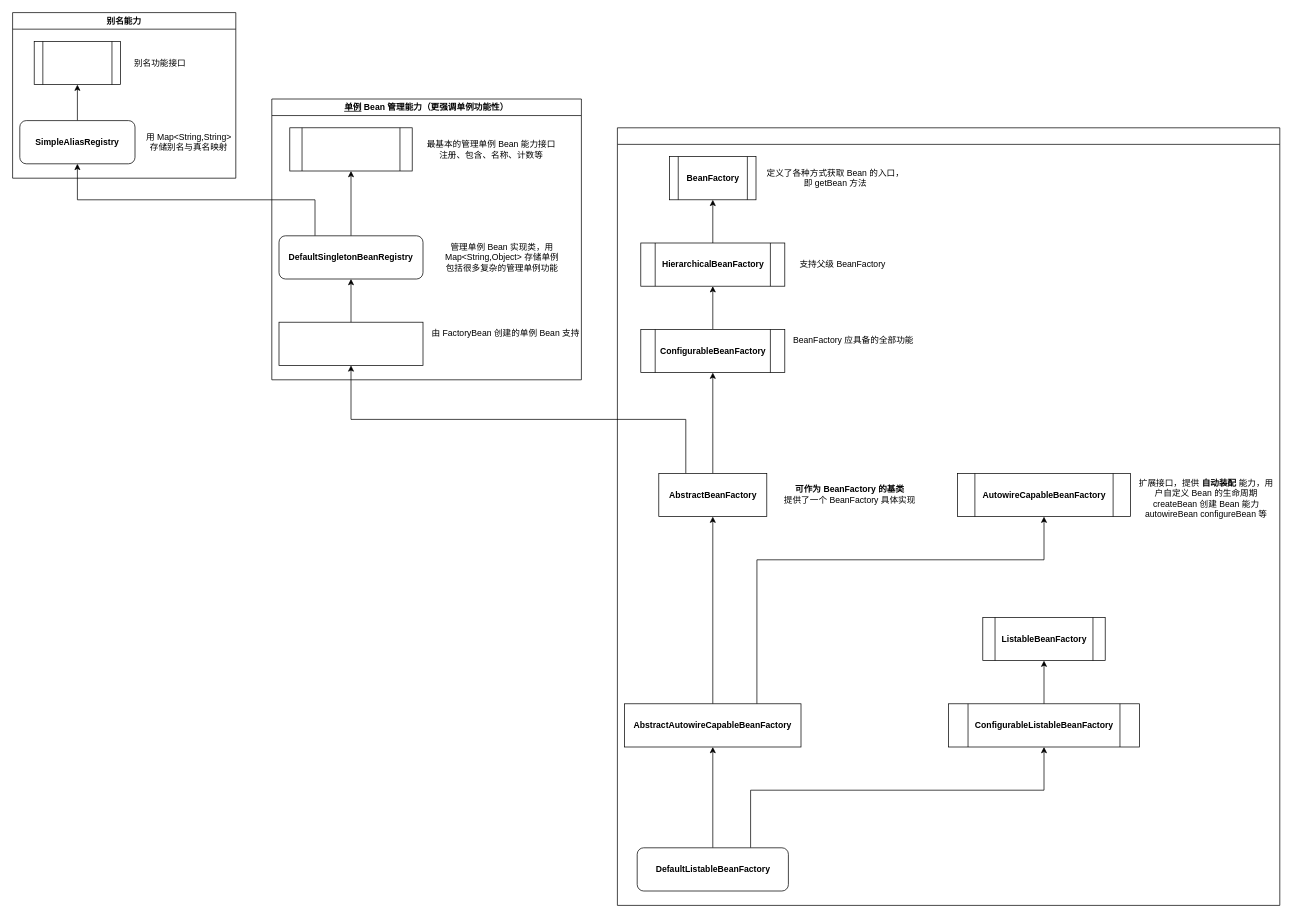
Image size: 1292x918. Some labels were removed from this diagram. Here are the shapes that lost their labels. From the top down, the centre of each, then its label:
At (77,63): "AliasRegistry".
At (350,149): "SingletonBeanRegistry".
At (350,343): "FactoryBeanRegistrySupport".
At (948,516): "BeanFactory 概要".
